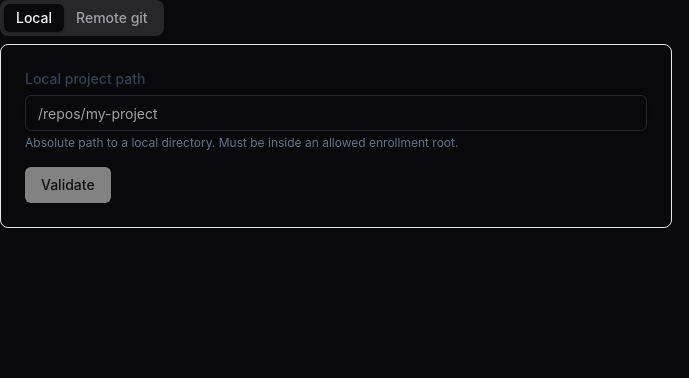
Test: EnrollmentForm — local enrollment commit (task 3.5) › shows an error and does NOT redirect when project creation fails
Type "/tmp/my-project" into the field labelled "Local project path" at (336, 113), box [25,95,647,131]
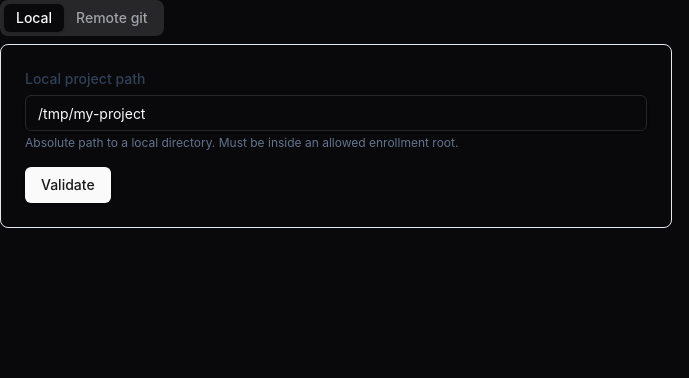
Click the button "Validate" at (68, 185), box [25,167,111,203]
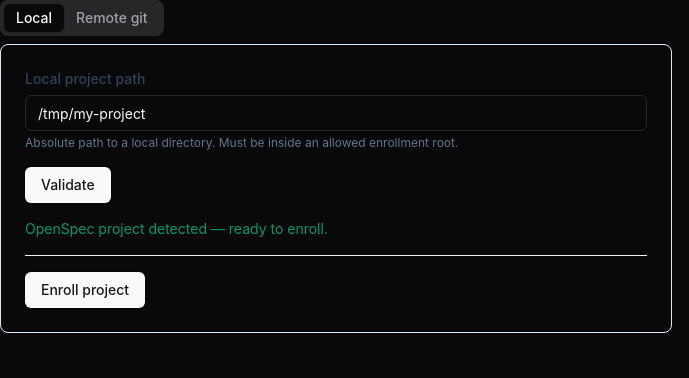
Expected: the button "Enroll project" is shown
Click the button "Enroll project" at (85, 290), box [25,272,145,308]
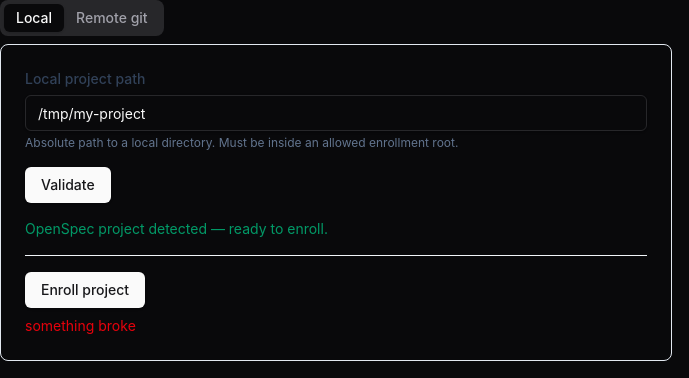
Expected: the message "something broke" is shown, [25,317,136,334]
